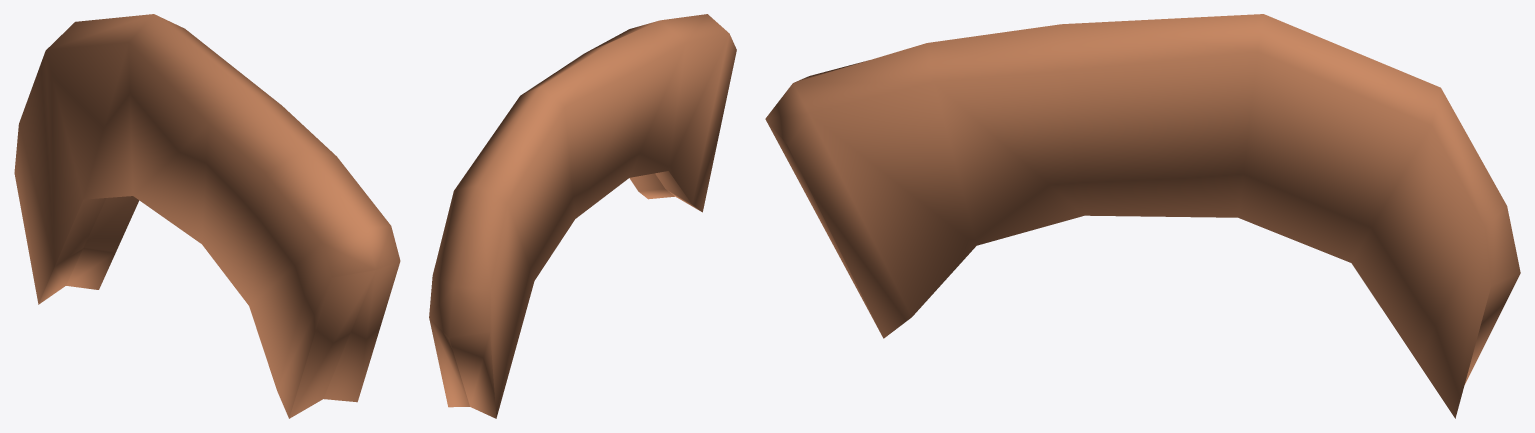
File: MohawkAlternative.fbx
3 renders of one model, left to right at view 1: azimuth 30°, elevation 25°; view 2: azimuth 150°, elevation 25°; view 3: azimuth 270°, elevation 25°, orthographic. The views are drawn at different scales.
Parts seen in each view (by area): view 1: 03 Hair - Mohawk Alternative; view 2: 03 Hair - Mohawk Alternative; view 3: 03 Hair - Mohawk Alternative.
Part boxes in pixels (box(x1,y1,x2,y2)): 03 Hair - Mohawk Alternative: box(14, 14, 400, 418); 03 Hair - Mohawk Alternative: box(429, 14, 736, 418); 03 Hair - Mohawk Alternative: box(765, 14, 1520, 418).
Bounding box in the file's own units: 0.042 × 0.1811 × 0.3192.
